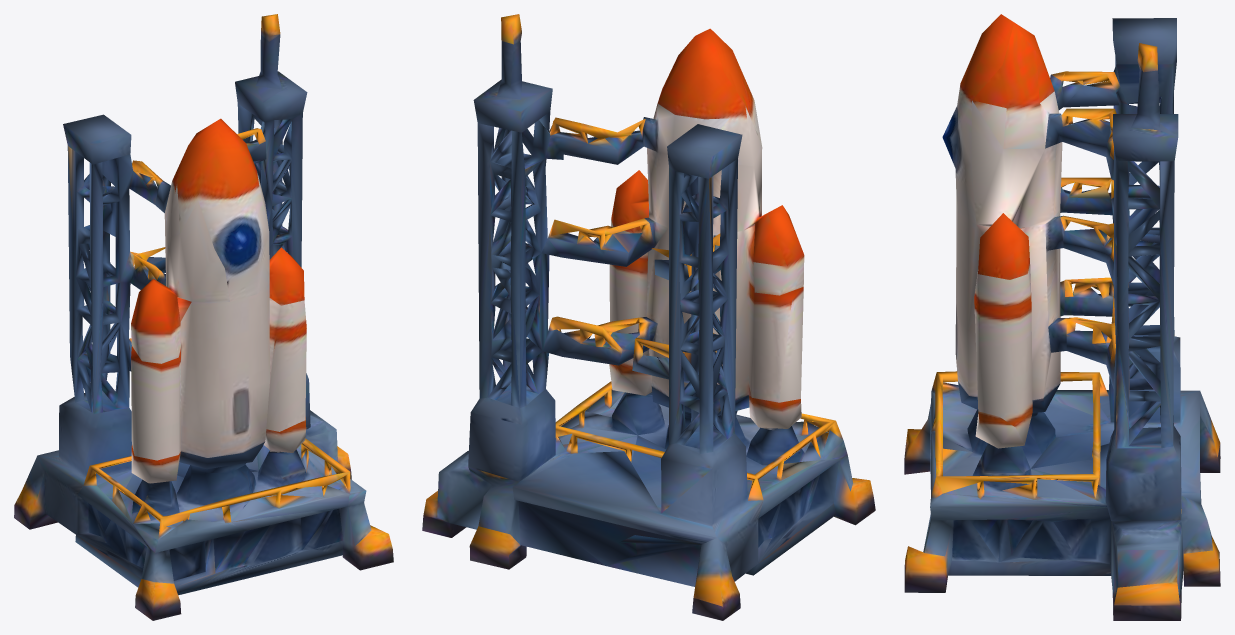
File: launchpad.glb
3 renders of one model, left to right at view 1: azimuth 30°, elevation 25°; view 2: azimuth 150°, elevation 25°; view 3: azimuth 270°, elevation 25°, orthographic. The views are drawn at different scales.
Parts seen in each view (by area): view 1: model; view 2: model; view 3: model.
Boxes of the visible parts, left/top/right/bottom form: model: left=14, top=14, right=393, bottom=620; model: left=422, top=14, right=875, bottom=620; model: left=904, top=14, right=1220, bottom=620.
Size of the model in its own units: 1.22 by 1.89 by 1.
1 material, 1 textured.
